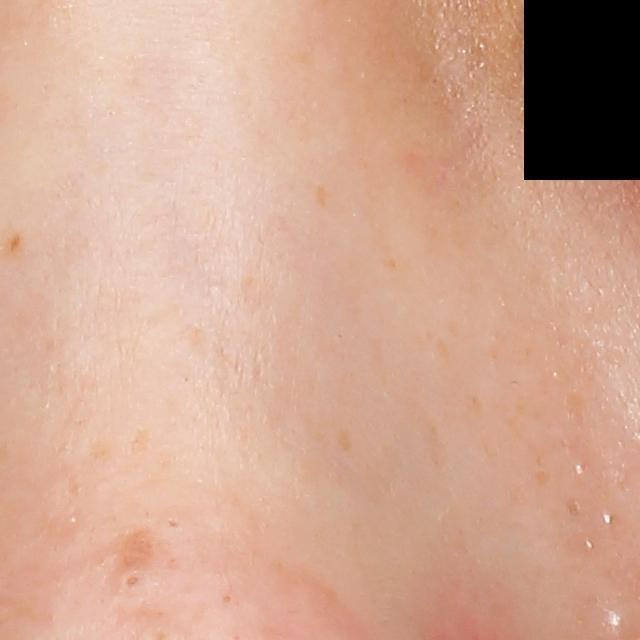comedo: (106, 563, 157, 608), (164, 515, 183, 534)
melasma: (313, 181, 329, 210)
